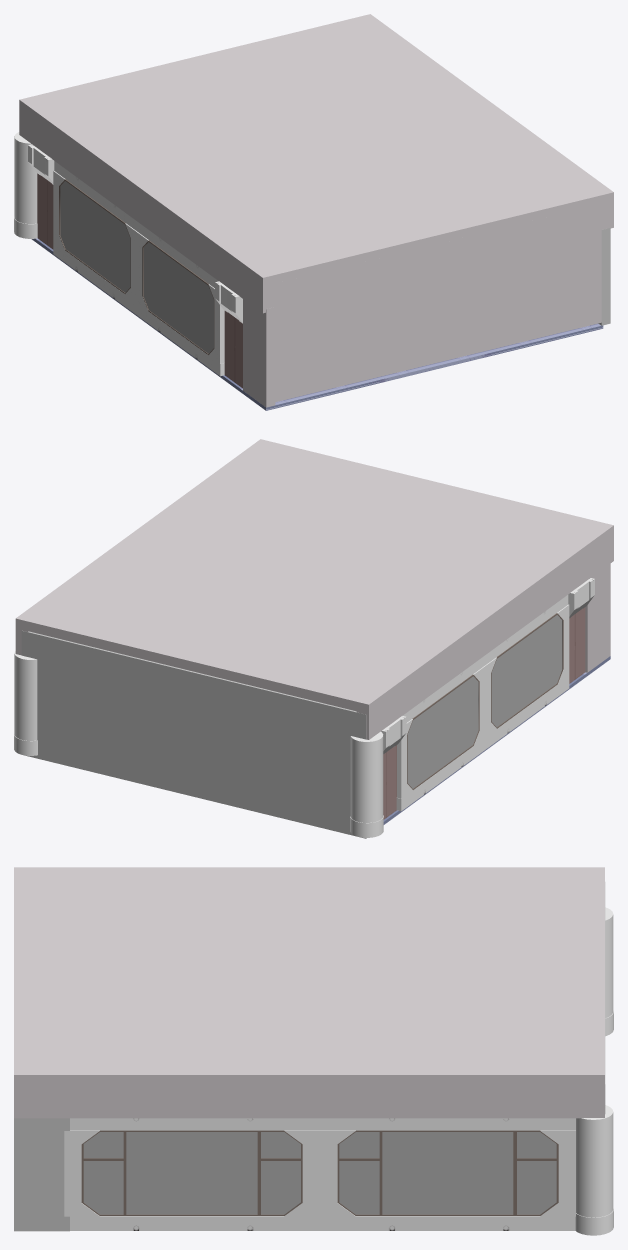
The model's file is SalonesFBX.fbx.
3 renders of one model, top to bottom at view 1: azimuth 30°, elevation 25°; view 2: azimuth 150°, elevation 25°; view 3: azimuth 270°, elevation 25°, orthographic. The views are drawn at different scales.
Parts seen in each view (by area): view 1: pCube82_pared_enfrente_0.007, pCube2_pared_enfrente_0.007, pCube70_mia_material_x1_0.015, pCube70_mia_material_x1_0.014, pCube45_pared_enfrente_0.007, pCube36_suelo_text_0.007, pCylinder4_paredText_0.007, pCube78_puerta_0.007, pCube39_paredText_0.028, pCube81_puerta_0.007, pCube39_paredText_0.031, pCube56_blanco_0.007 (+6 smaller); view 2: pCube82_pared_enfrente_0.007, pCube80_blanco_0.007, pCube70_mia_material_x1_0.015, pCube70_mia_material_x1_0.014, pCylinder4_paredText_0.007, pCylinder6_paredText_0.007, pCube45_pared_enfrente_0.007, pCube39_paredText_0.031, pCube78_puerta_0.007, pCube39_paredText_0.028, pCube81_puerta_0.007, pCube41_paredText_0.028 (+6 smaller); view 3: pCube82_pared_enfrente_0.007, pCube66_mia_material_x1_0.007, pCube67_mia_material_x1_0.007, pCube56_blanco_0.007, pCylinder6_paredText_0.007, pCube39_paredText_0.029, pCube39_paredText_0.030, pCube41_paredText_0.029, pCube41_paredText_0.030, pPipe7_cafe_0.007, pPipe2_cafe_0.022, pCube38_paredText_0.029 (+4 smaller).
Part boxes in pixels (left/top/right/bottom): pCube82_pared_enfrente_0.007: left=19, top=14, right=613, bottom=313; pCube2_pared_enfrente_0.007: left=275, top=204, right=601, bottom=402; pCube70_mia_material_x1_0.015: left=60, top=181, right=130, bottom=292; pCube70_mia_material_x1_0.014: left=143, top=242, right=213, bottom=353; pCube45_pared_enfrente_0.007: left=243, top=299, right=275, bottom=407; pCube36_suelo_text_0.007: left=196, top=323, right=603, bottom=410; pCylinder4_paredText_0.007: left=14, top=132, right=37, bottom=238; pCube78_puerta_0.007: left=224, top=311, right=242, bottom=388; pCube39_paredText_0.028: left=136, top=303, right=224, bottom=376; pCube81_puerta_0.007: left=37, top=173, right=53, bottom=249; pCube39_paredText_0.031: left=53, top=242, right=136, bottom=314; pCube56_blanco_0.007: left=598, top=228, right=610, bottom=325; pCube82_pared_enfrente_0.007: left=15, top=439, right=613, bottom=739; pCube80_blanco_0.007: left=21, top=630, right=366, bottom=838; pCube70_mia_material_x1_0.015: left=407, top=676, right=478, bottom=788; pCube70_mia_material_x1_0.014: left=491, top=615, right=562, bottom=727; pCylinder4_paredText_0.007: left=350, top=731, right=383, bottom=837; pCylinder6_paredText_0.007: left=14, top=651, right=37, bottom=755; pCube45_pared_enfrente_0.007: left=585, top=564, right=610, bottom=672; pCube39_paredText_0.031: left=396, top=738, right=485, bottom=811; pCube78_puerta_0.007: left=569, top=607, right=585, bottom=683; pCube39_paredText_0.028: left=485, top=676, right=569, bottom=749; pCube81_puerta_0.007: left=383, top=745, right=396, bottom=819; pCube41_paredText_0.028: left=484, top=595, right=568, bottom=665; pCube82_pared_enfrente_0.007: left=14, top=867, right=604, bottom=1118; pCube66_mia_material_x1_0.007: left=83, top=1132, right=300, bottom=1214; pCube67_mia_material_x1_0.007: left=339, top=1132, right=556, bottom=1214; pCube56_blanco_0.007: left=14, top=1118, right=69, bottom=1231; pCylinder6_paredText_0.007: left=575, top=1105, right=613, bottom=1235; pCube39_paredText_0.029: left=320, top=1216, right=575, bottom=1230; pCube39_paredText_0.030: left=70, top=1216, right=319, bottom=1230; pCube41_paredText_0.029: left=320, top=1118, right=575, bottom=1130; pCube41_paredText_0.030: left=70, top=1118, right=319, bottom=1130; pPipe7_cafe_0.007: left=337, top=1130, right=558, bottom=1215; pPipe2_cafe_0.022: left=81, top=1130, right=302, bottom=1215; pCube38_paredText_0.029: left=320, top=1130, right=355, bottom=1216.
Bounding box in the file's own units: 1267 × 446 × 1495.
Materials: 18 (8 with a texture image).
